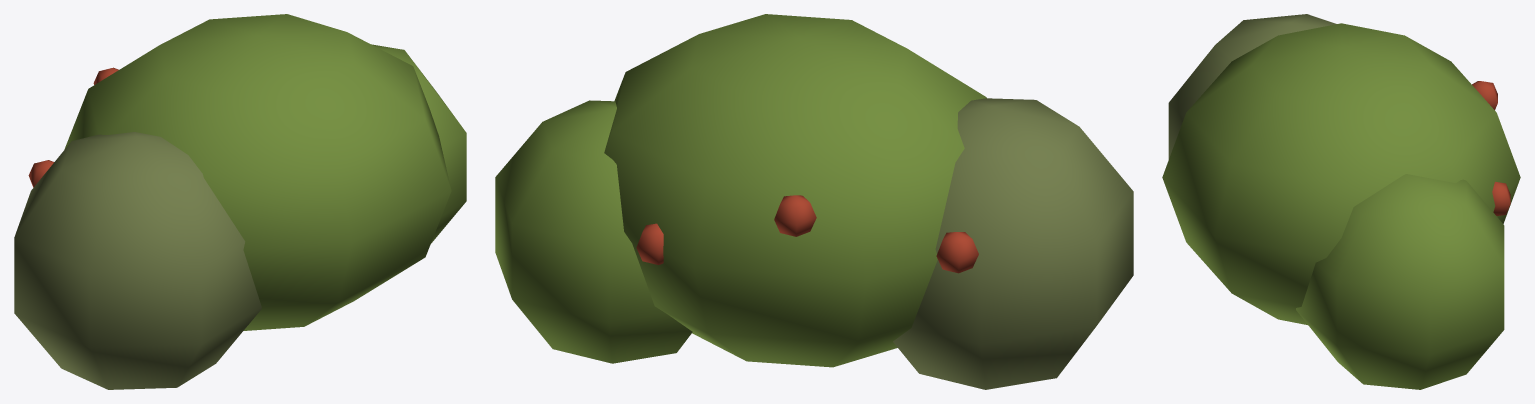
The model's file is bush.fbx.
3 renders of one model, left to right at view 1: azimuth 30°, elevation 25°; view 2: azimuth 150°, elevation 25°; view 3: azimuth 270°, elevation 25°, orthographic. The views are drawn at different scales.
Parts seen in each view (by area): view 1: Prop; view 2: Prop; view 3: Prop.
Boxes of the visible parts, <box> form: Prop: <box>14,14,466,389</box>; Prop: <box>495,14,1133,389</box>; Prop: <box>1162,14,1520,389</box>.
Bounding box in the file's own units: 0.8223 × 0.56 × 0.474.
